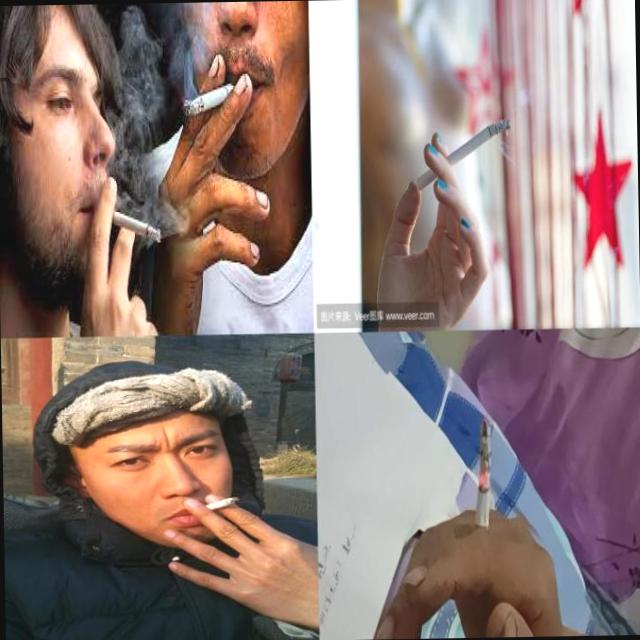cigarette: (369, 422, 572, 639), (373, 120, 514, 328), (158, 46, 273, 283), (166, 495, 318, 640), (101, 206, 162, 244)
